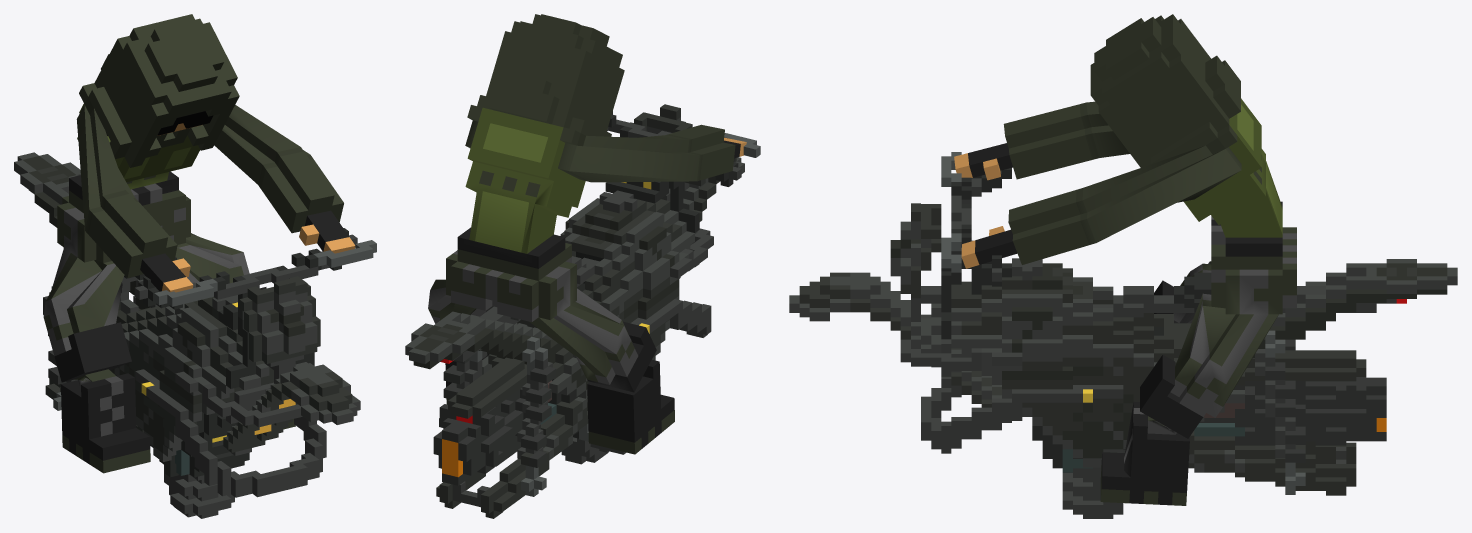
File: OnCross.obj
The picture shows the model from 3 angles, left to right: view 1: azimuth 30°, elevation 25°; view 2: azimuth 150°, elevation 25°; view 3: azimuth 270°, elevation 25°; orthographic projection. The views are drawn at different scales.
Visible parts, largest first — view 1: Character-0.003_Character-0.003_palette.005, Cross_Cross_palette.004; view 2: Character-0.003_Character-0.003_palette.005, Cross_Cross_palette.004; view 3: Cross_Cross_palette.004, Character-0.003_Character-0.003_palette.005.
Boxes of the visible parts, x1,y1,x2,y2 form: Character-0.003_Character-0.003_palette.005: (43,14,355,473); Cross_Cross_palette.004: (14,152,376,518); Character-0.003_Character-0.003_palette.005: (428,14,746,454); Cross_Cross_palette.004: (405,104,760,518); Cross_Cross_palette.004: (789,152,1457,518); Character-0.003_Character-0.003_palette.005: (954,14,1296,505).
Size of the model in its own units: 3.76 by 7.5 by 9.36.
Materials: 2 (2 with a texture image).
